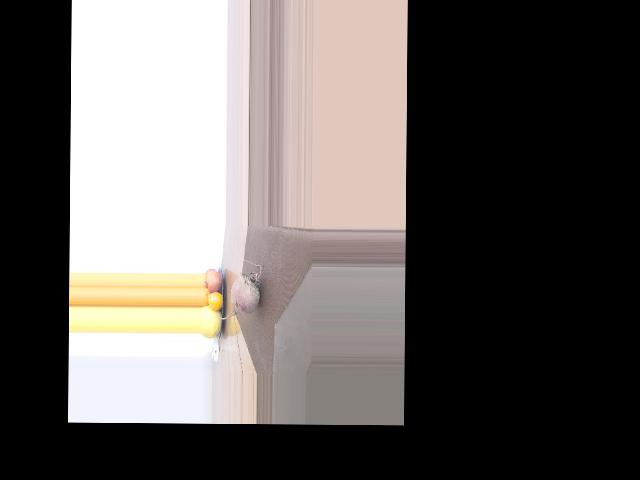beet: (217, 260, 262, 320)
